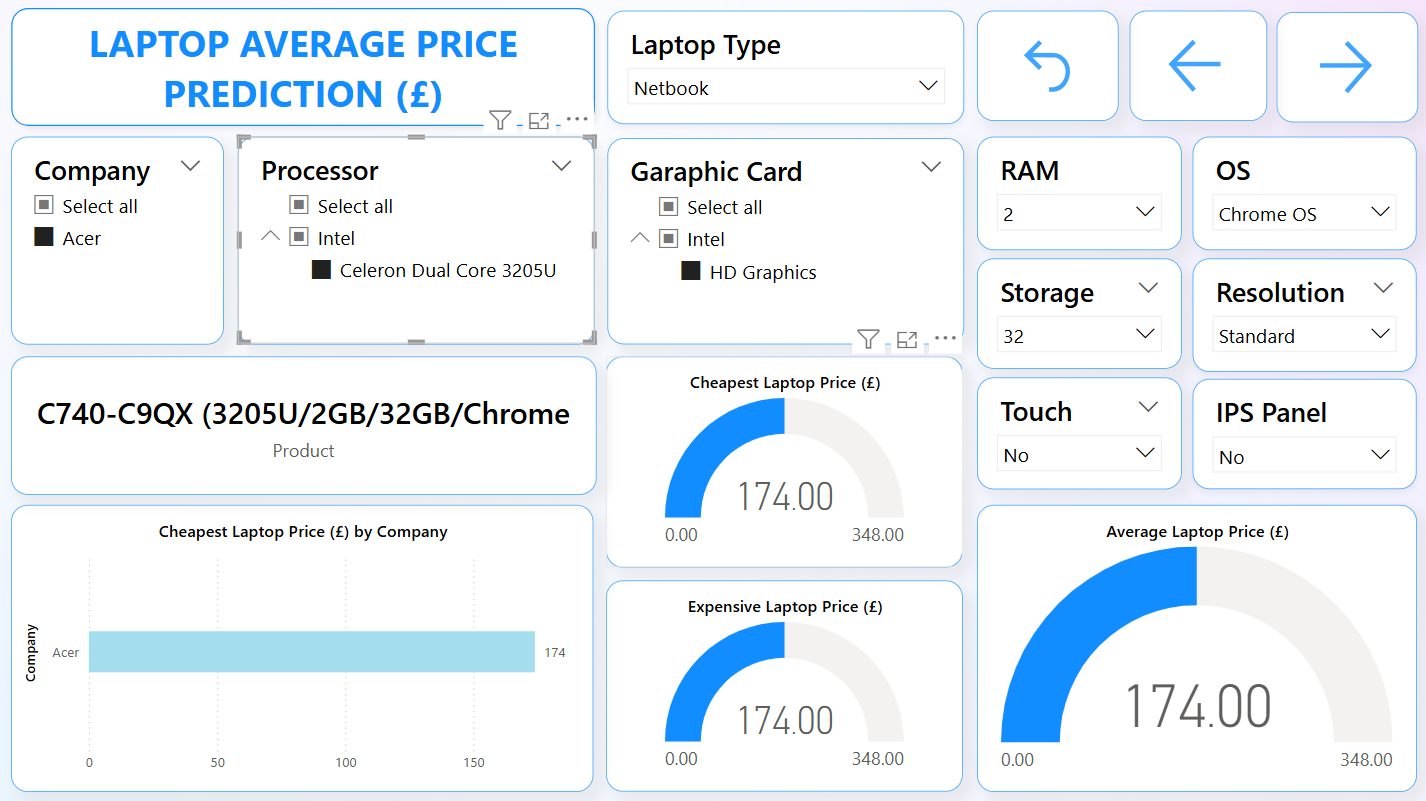

Layout of this report page (visuals, bound fields, positions):
{"tool":"powerbi","page":{"name":"Price Predictor","canvas":[1280,720],"ordinal":2},"visuals":[{"type":"slicer","fields":{"Values":["laptop_prices.CPU_company","laptop_prices.CPU_model"]},"box":[214.5,123.2,318.8,185.5],"z":0},{"type":"slicer","fields":{"Values":["laptop_prices.Company"]},"box":[13,123.2,189.9,185.5],"z":1000},{"type":"slicer","fields":{"Values":["laptop_prices.GPU_company","laptop_prices.GPU_model"]},"box":[544.9,124.6,318.8,184.1],"z":2000},{"type":"gauge","fields":{"Y":["Min(laptop_prices.Price_euros)"]},"box":[543.5,320.3,318.8,188.4],"z":3000},{"type":"gauge","fields":{"Y":["Max(laptop_prices.Price_euros)"]},"box":[543.5,520.3,318.8,188.4],"z":4000},{"type":"gauge","fields":{"Y":["Avg(laptop_prices.Price_euros)"]},"box":[875.4,452.2,392.8,256.5],"z":5000},{"type":"barChart","title":"Cheapest Laptop Price (£) by Company","fields":{"Category":["laptop_prices.Company"],"Y":["Min(laptop_prices.Price_euros)"],"Series":["laptop_prices.Company"]},"box":[13,452.2,520.3,256.5],"z":6000},{"type":"slicer","fields":{"Values":["laptop_prices.Ram"]},"box":[875.4,123.2,182.6,101.4],"z":7000},{"type":"shape","box":[4.3,0,539.1,123.2],"z":8000},{"type":"slicer","fields":{"Values":["laptop_prices.PrimaryStorage"]},"box":[875.4,231.9,182.6,98.6],"z":9000},{"type":"slicer","fields":{"Values":["laptop_prices.Touchscreen"]},"box":[875.4,339.1,182.6,100],"z":10000},{"type":"slicer","fields":{"Values":["laptop_prices.TypeName"]},"box":[544.9,11.6,318.8,101.4],"z":11000},{"type":"slicer","fields":{"Values":["laptop_prices.IPSpanel"]},"box":[1068.1,340.6,200,98.6],"z":12000},{"type":"slicer","fields":{"Values":["laptop_prices.OS"]},"box":[1068.1,123.2,200,101.4],"z":13000},{"type":"slicer","fields":{"Values":["laptop_prices.Screen"]},"box":[1068.1,231.9,200,101.4],"z":14000},{"type":"actionButton","box":[1142,13,126.1,98.6],"z":15000},{"type":"actionButton","box":[1011.6,11.6,123.2,98.6],"z":16000},{"type":"actionButton","box":[875.4,11.6,126.1,98.6],"z":17000},{"type":"card","fields":{"Values":["Min(laptop_prices.Product)"]},"box":[12.5,320,522.5,123.8],"z":18000}]}

Visuals, with their boxes in screenshot pixels (x1, y1, x2, y2), scaled from the page's 1280x720 canvas onto the 1426x801 screenshot:
slicer - laptop_prices.CPU_company x laptop_prices.CPU_model: (239, 137, 594, 343)
slicer - laptop_prices.Company: (14, 137, 226, 343)
slicer - laptop_prices.GPU_company x laptop_prices.GPU_model: (607, 139, 962, 343)
gauge - Min(laptop_prices.Price_euros): (605, 356, 961, 566)
gauge - Max(laptop_prices.Price_euros): (605, 579, 961, 788)
gauge - Avg(laptop_prices.Price_euros): (975, 503, 1413, 788)
"Cheapest Laptop Price (£) by Company" barChart: (14, 503, 594, 788)
slicer - laptop_prices.Ram: (975, 137, 1179, 250)
shape: (5, 0, 605, 137)
slicer - laptop_prices.PrimaryStorage: (975, 258, 1179, 368)
slicer - laptop_prices.Touchscreen: (975, 377, 1179, 488)
slicer - laptop_prices.TypeName: (607, 13, 962, 126)
slicer - laptop_prices.IPSpanel: (1190, 379, 1413, 489)
slicer - laptop_prices.OS: (1190, 137, 1413, 250)
slicer - laptop_prices.Screen: (1190, 258, 1413, 371)
actionButton: (1272, 14, 1413, 124)
actionButton: (1127, 13, 1264, 123)
actionButton: (975, 13, 1116, 123)
card - Min(laptop_prices.Product): (14, 356, 596, 494)
